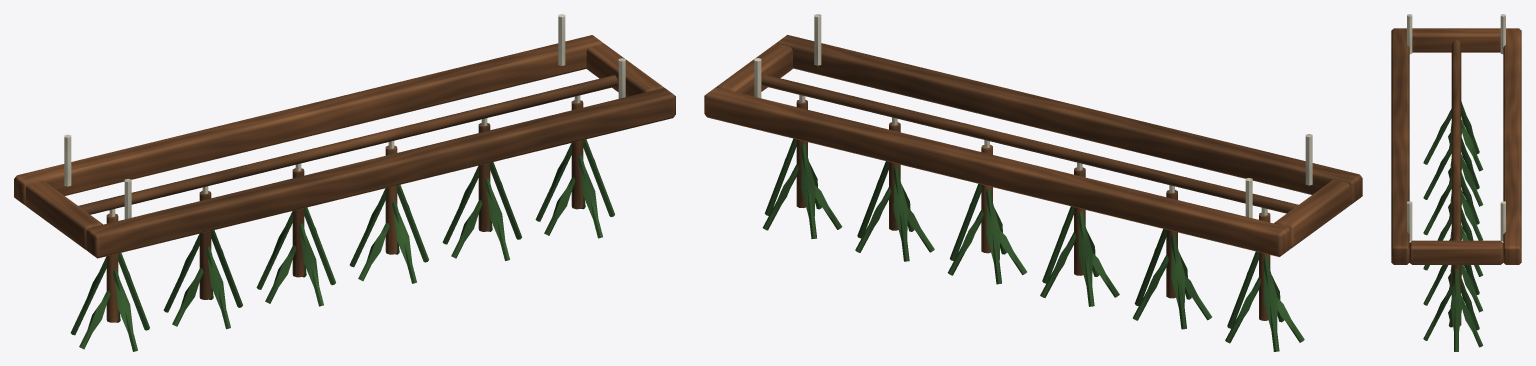
File: Furn_Brew_HerbRack.fbx
3 views of the same model, side by side, from view 1: azimuth 30°, elevation 25°; view 2: azimuth 150°, elevation 25°; view 3: azimuth 270°, elevation 25° (orthographic). The views are drawn at different scales.
Parts seen in each view (by area): view 1: Furn_Brew_HerbRack; view 2: Furn_Brew_HerbRack; view 3: Furn_Brew_HerbRack.
Part boxes in pixels (x1,y1,x2,y2): Furn_Brew_HerbRack: (14,14,675,351); Furn_Brew_HerbRack: (704,14,1362,351); Furn_Brew_HerbRack: (1391,14,1521,351).
Size of the model in its own units: 2 by 0.6045 by 0.5.
3 materials, 3 textured.
